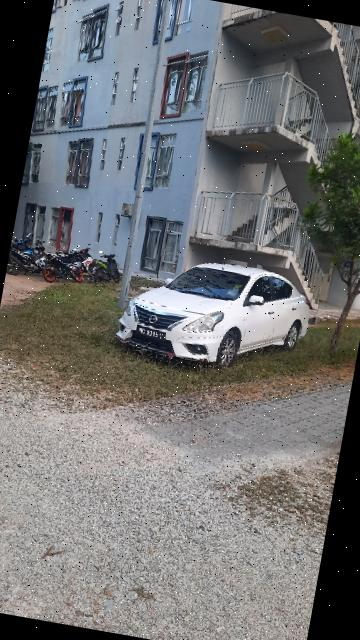License_Plate: (134, 323, 170, 344)
car: (109, 244, 322, 387)
